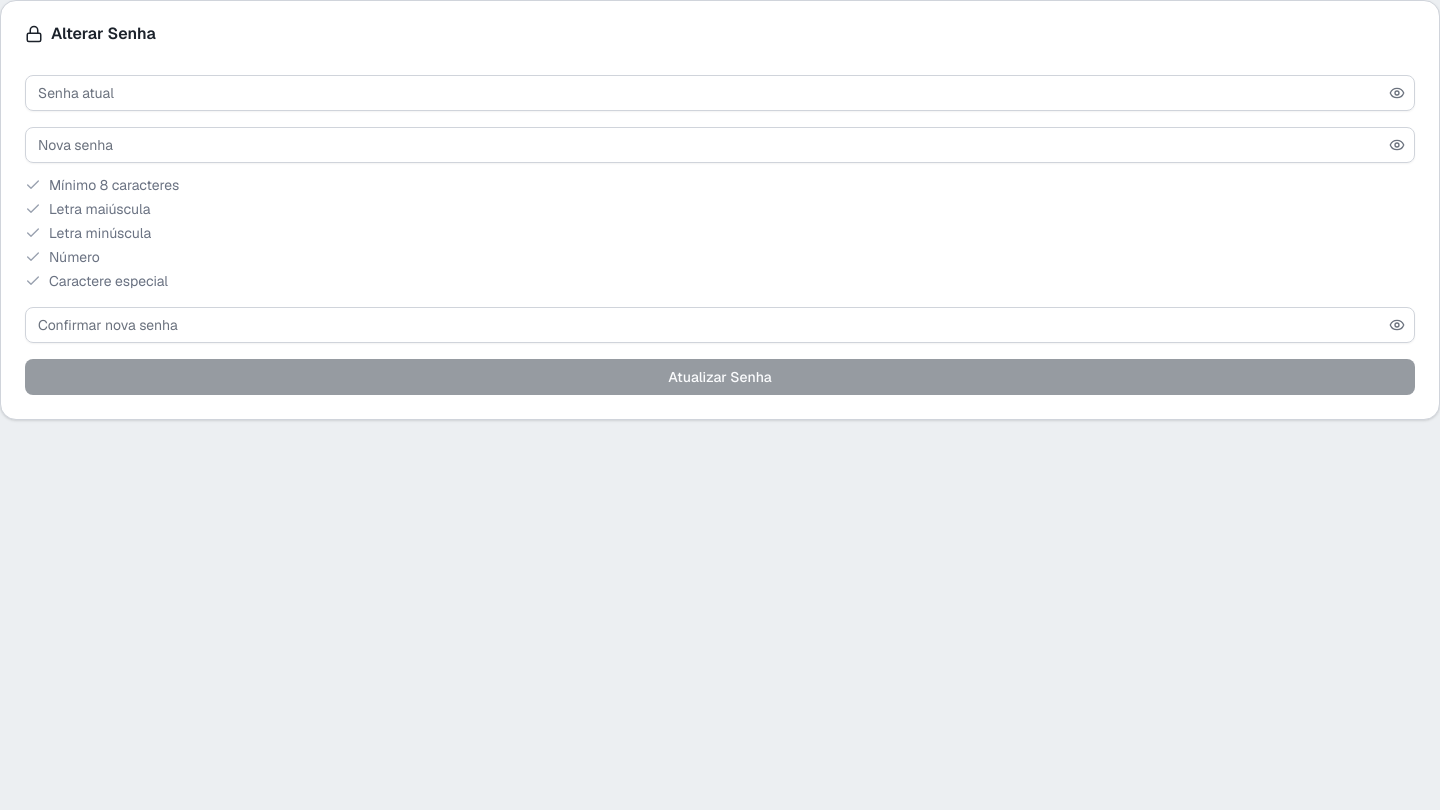
SenhaSection (admin) › mostra o erro de negócio devolvido pelo backend
This screenshot has width=1440, height=810.
In the password field with placeholder "Senha atual": (706, 93) left=26, top=75, right=1385, bottom=111, type "errada"
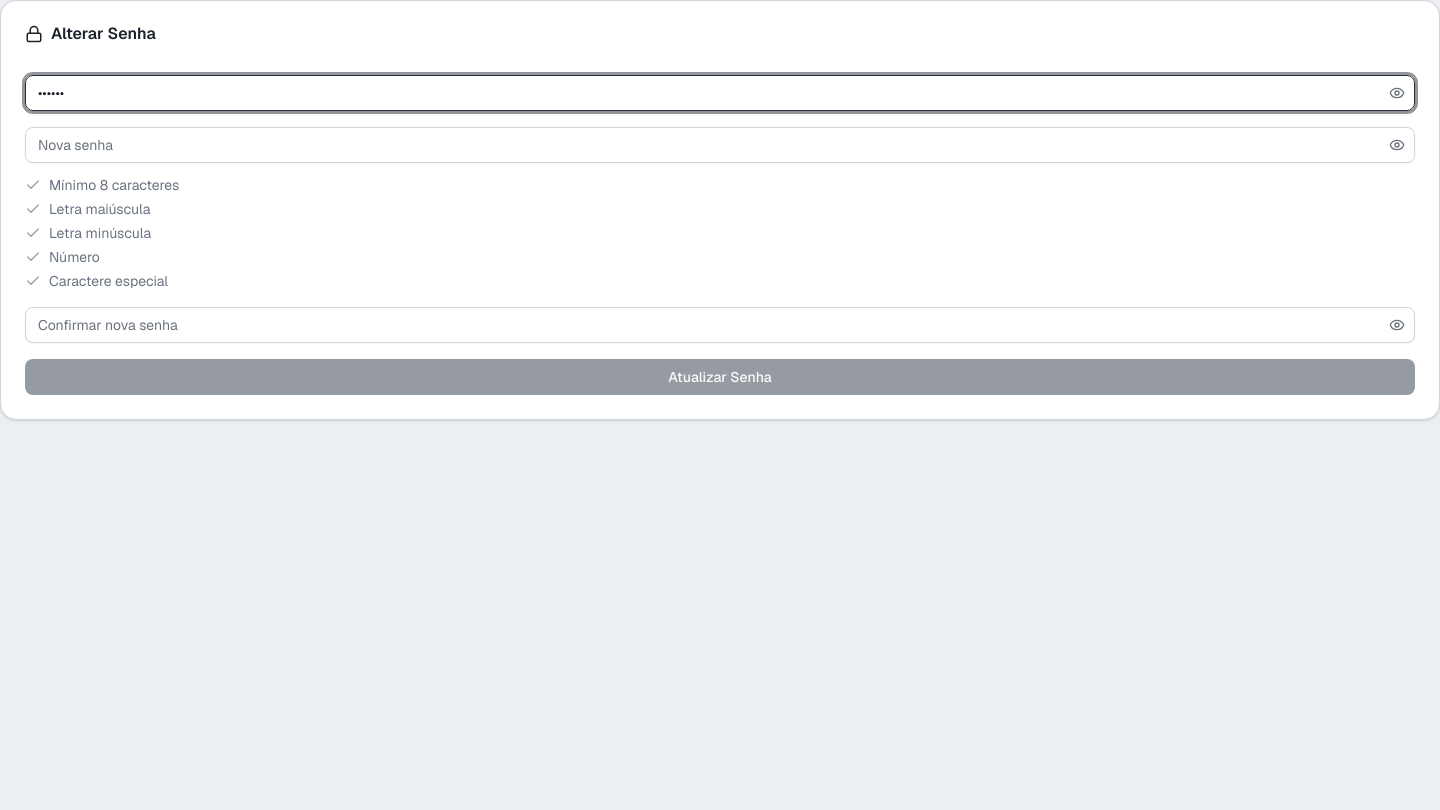
In the password field with placeholder "Nova senha": (706, 145) left=26, top=127, right=1385, bottom=163, type "Abc123!x"
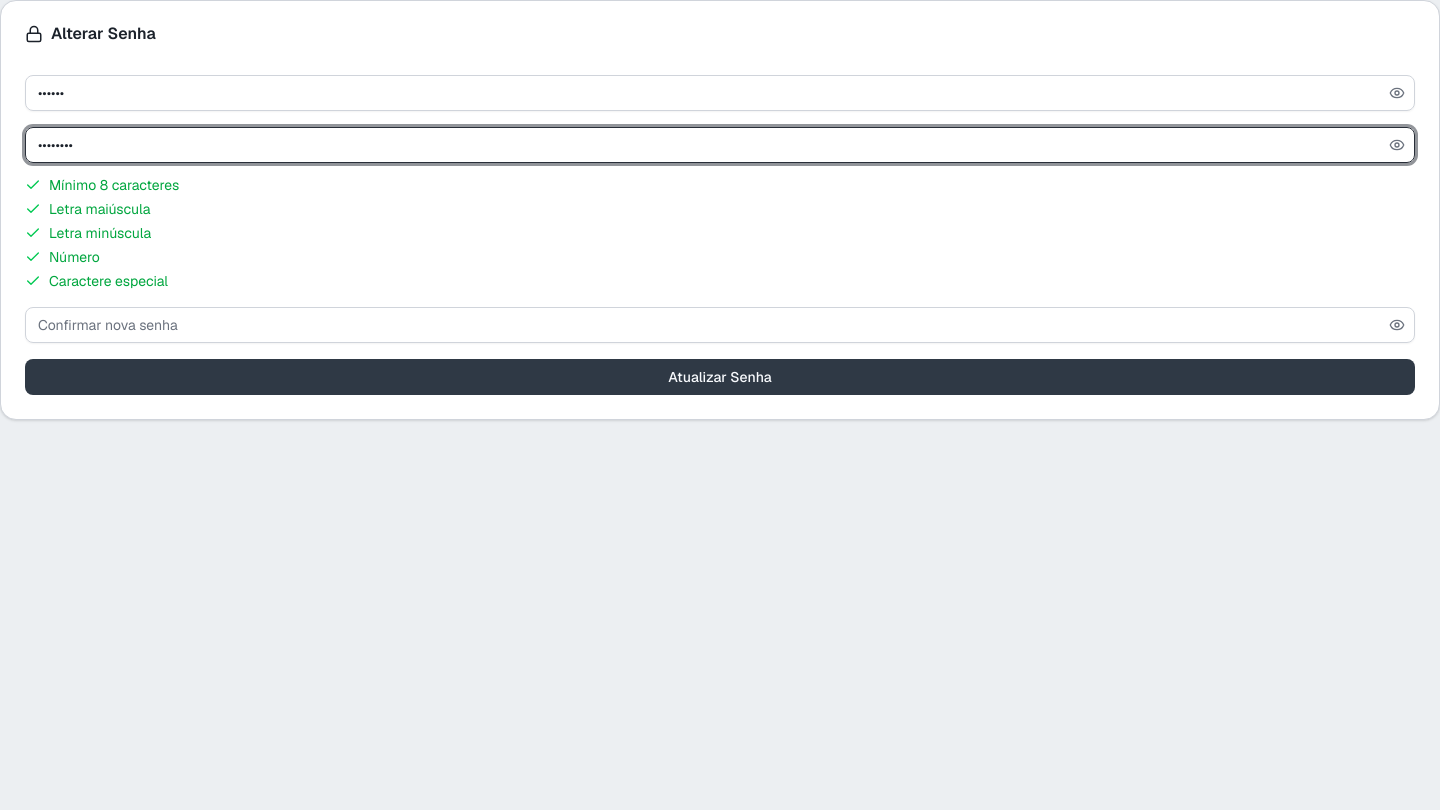
In the password field with placeholder "Confirmar nova senha": (706, 325) left=26, top=307, right=1385, bottom=343, type "Abc123!x"
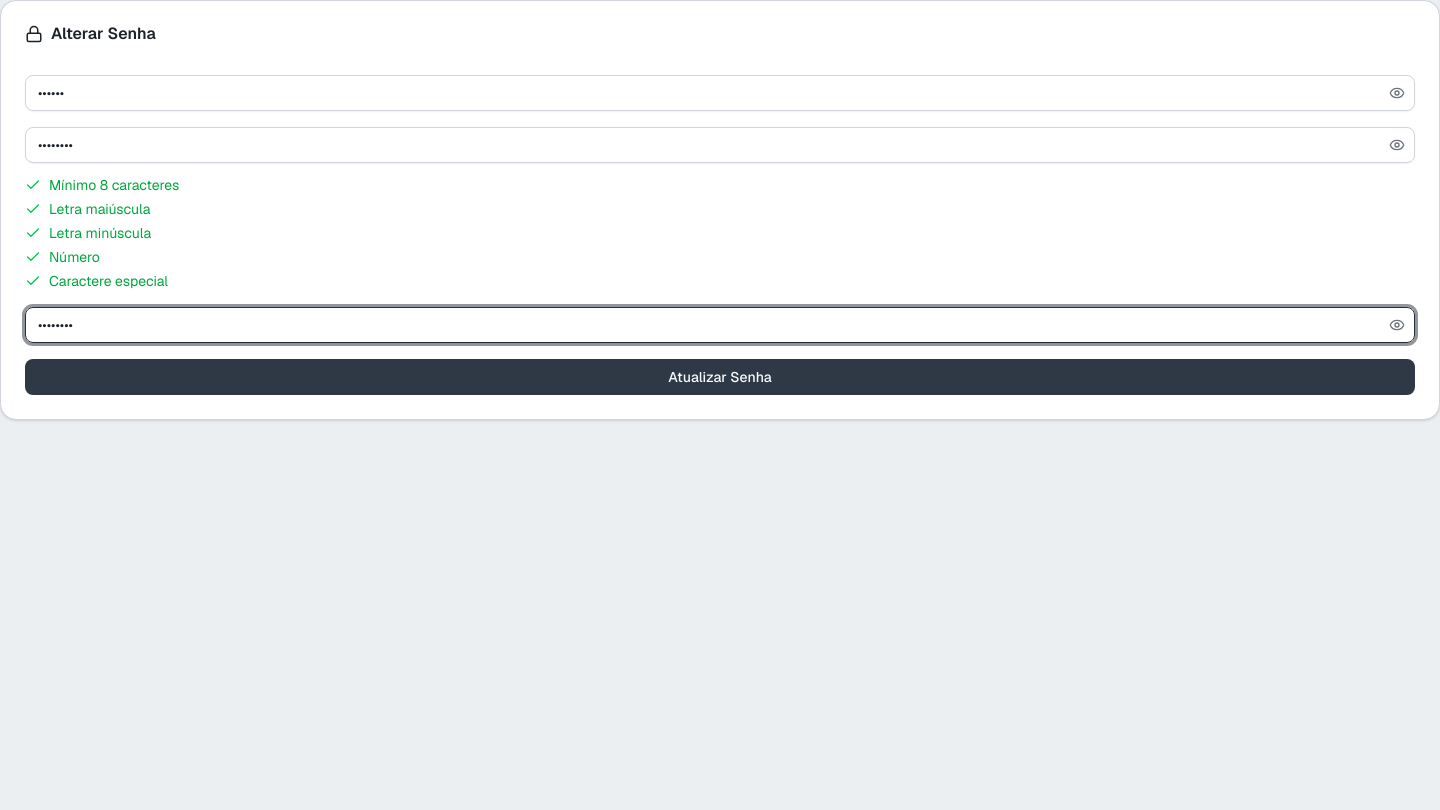
Click the button "Atualizar Senha": (720, 377) left=25, top=359, right=1415, bottom=395
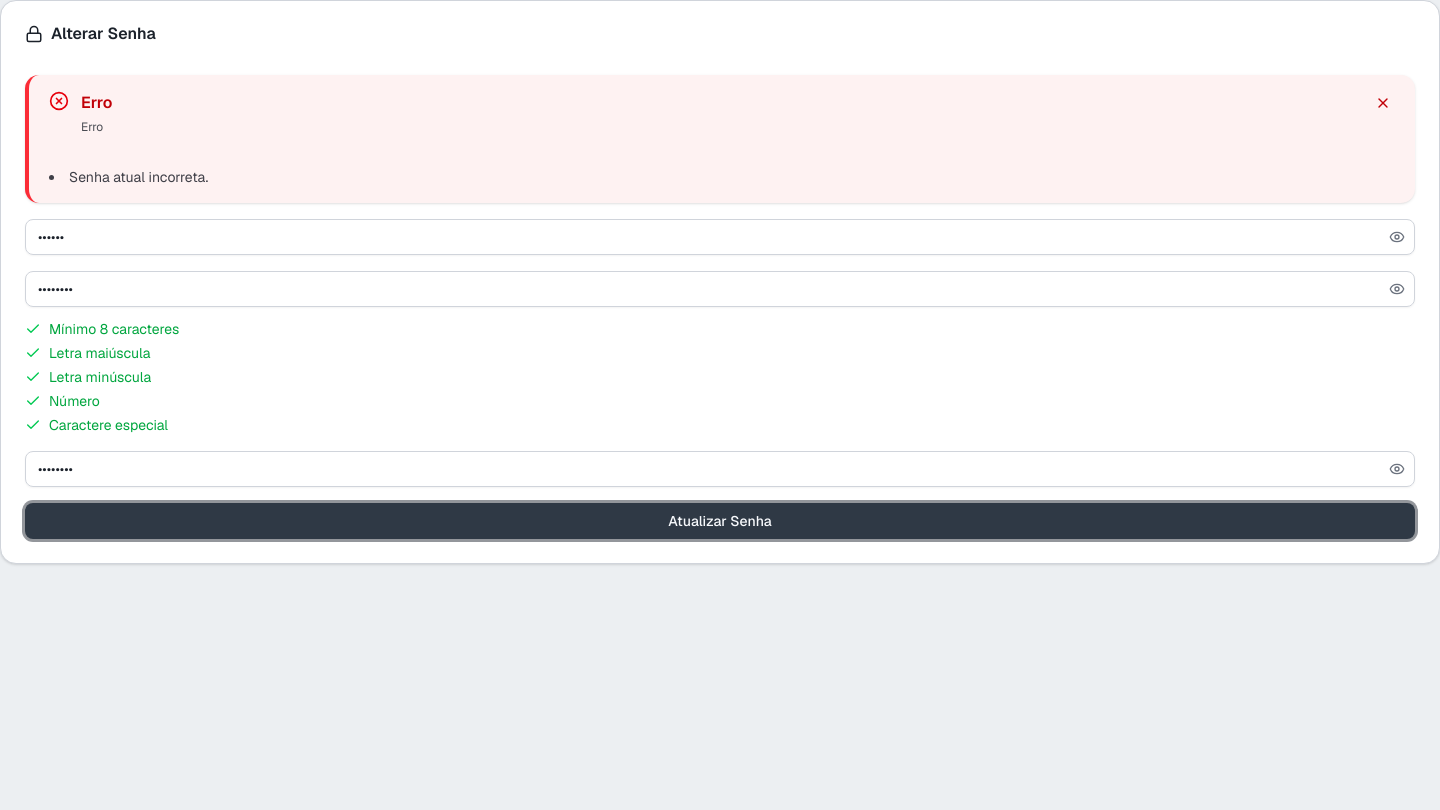
Check: the list item "Senha atual incorreta." is shown, box left=69, top=168, right=208, bottom=186
